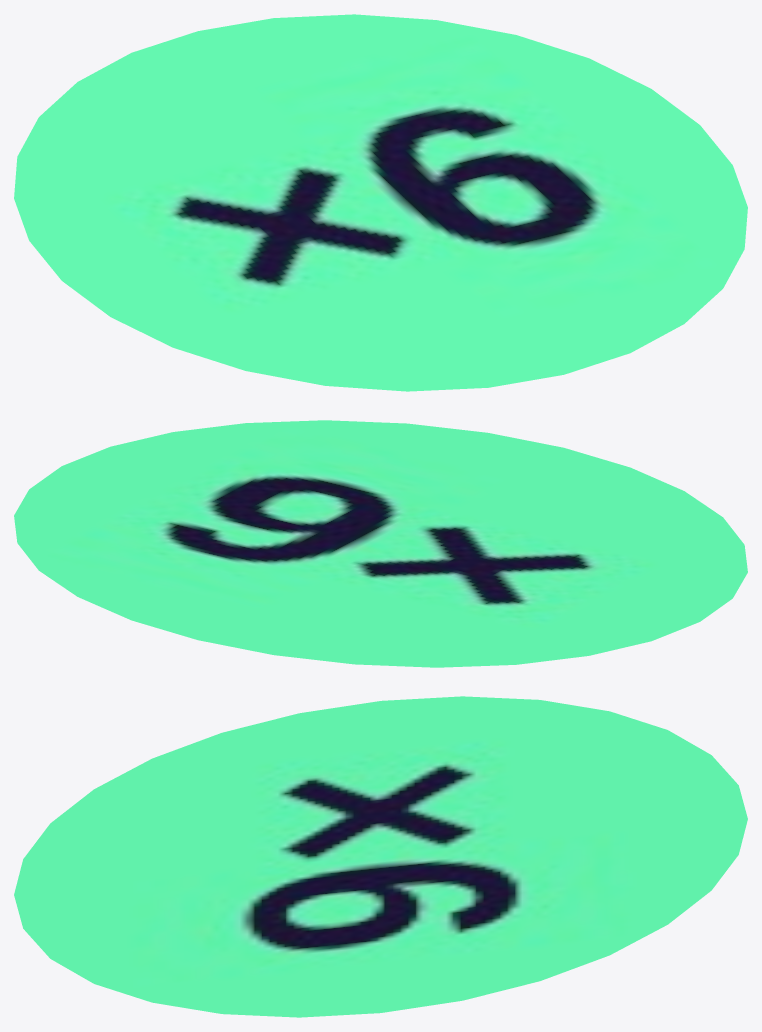
File: pp_light_mult6.glb
3 views of the same model, one above another, from view 1: azimuth 30°, elevation 25°; view 2: azimuth 150°, elevation 25°; view 3: azimuth 270°, elevation 25° (orthographic).
Visible parts, largest first — view 1: MultLight; view 2: MultLight; view 3: MultLight.
Part boxes in pixels (<box>): MultLight: <box>14,14,747,391</box>; MultLight: <box>14,420,747,667</box>; MultLight: <box>14,696,747,1017</box>.
Bounding box in the file's own units: 0.025 × 0.00283 × 0.0248.
Materials: 1 (1 with a texture image).
